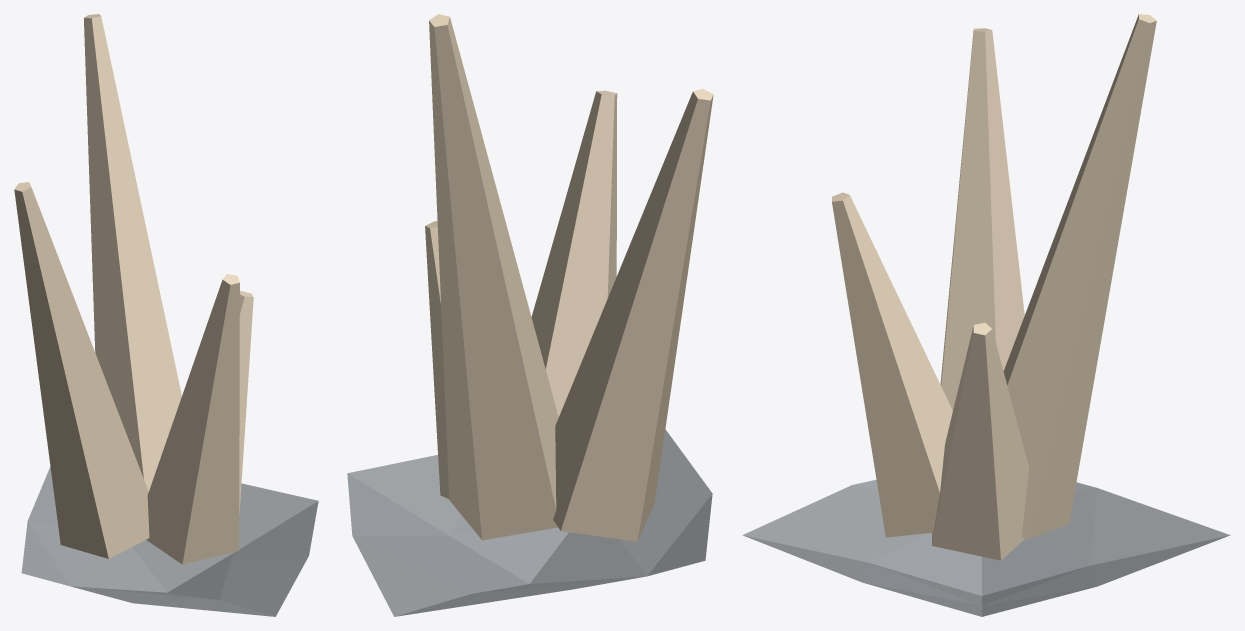
The model's file is crystal_v20.glb.
3 renders of one model, left to right at view 1: azimuth 30°, elevation 25°; view 2: azimuth 150°, elevation 25°; view 3: azimuth 270°, elevation 25°, orthographic. The views are drawn at different scales.
Parts seen in each view (by area): view 1: lod0; view 2: lod0; view 3: lod0.
Boxes of the visible parts, bbox=[...] form: lod0: bbox=[14, 14, 318, 616]; lod0: bbox=[347, 14, 713, 616]; lod0: bbox=[742, 14, 1230, 616].
Size of what is drawn, in the model's own units: 0.5649 by 0.9329 by 0.7129.
